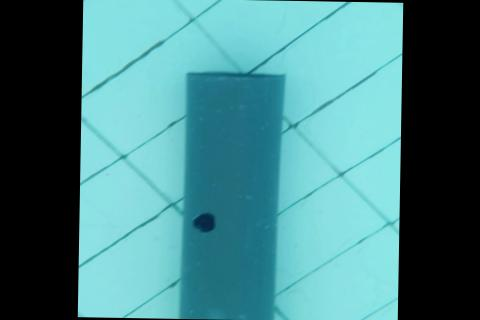kebocoran: (191, 211, 217, 233)
